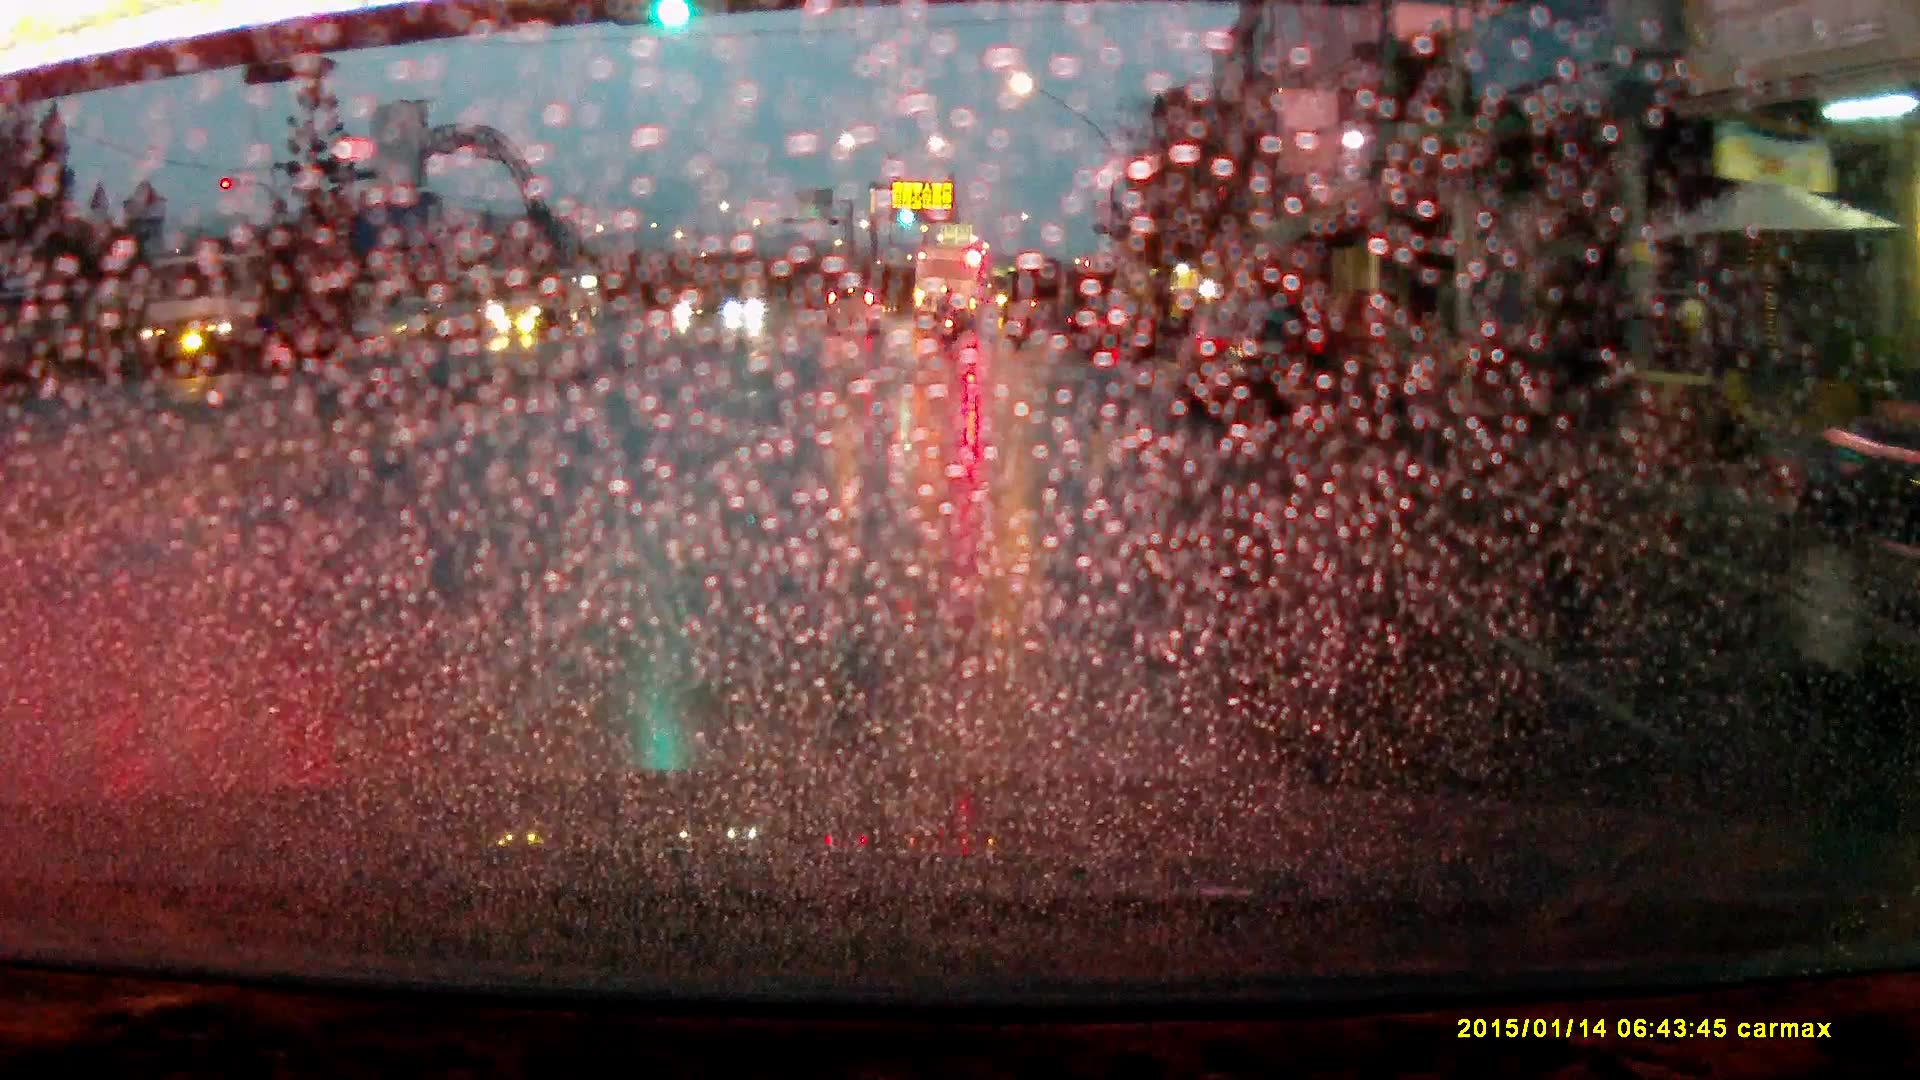rider: (938, 288, 965, 350)
vehicle: (1787, 389, 1920, 691), (134, 251, 341, 378), (1173, 310, 1338, 411), (491, 263, 588, 339), (912, 248, 982, 330), (1081, 301, 1156, 358), (827, 286, 885, 334), (724, 294, 770, 321)
